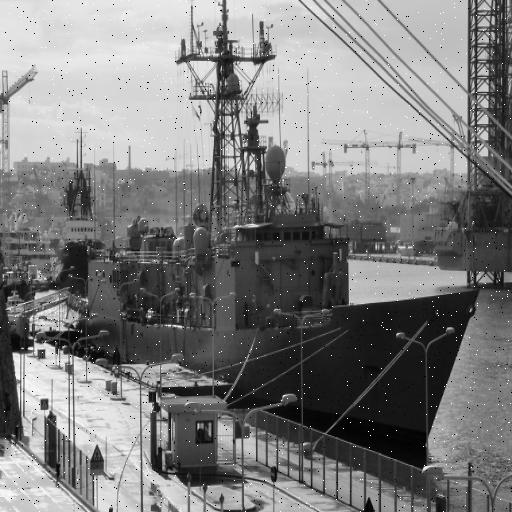Fragata: (74, 1, 485, 468)
